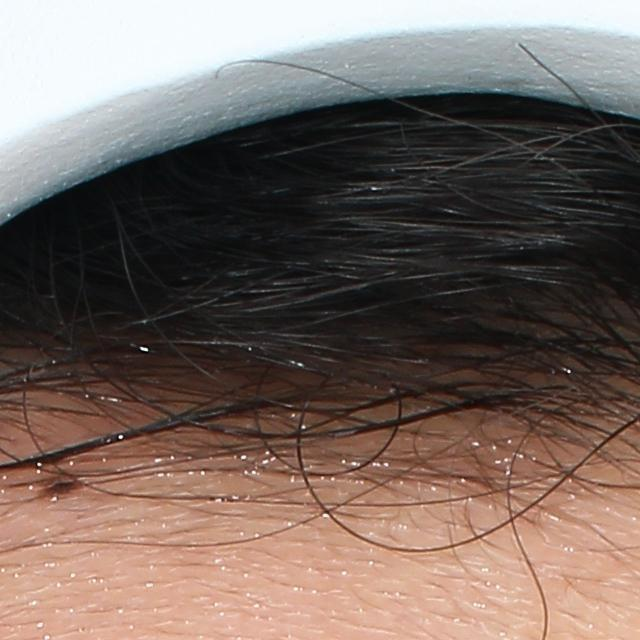nevus: (38, 463, 80, 498)
